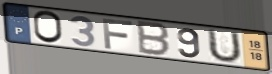3: (69, 14, 98, 48)
9: (176, 27, 202, 59)
B: (137, 19, 172, 58)
F: (101, 17, 135, 51)
O: (32, 10, 65, 45)
U: (207, 28, 244, 65)
